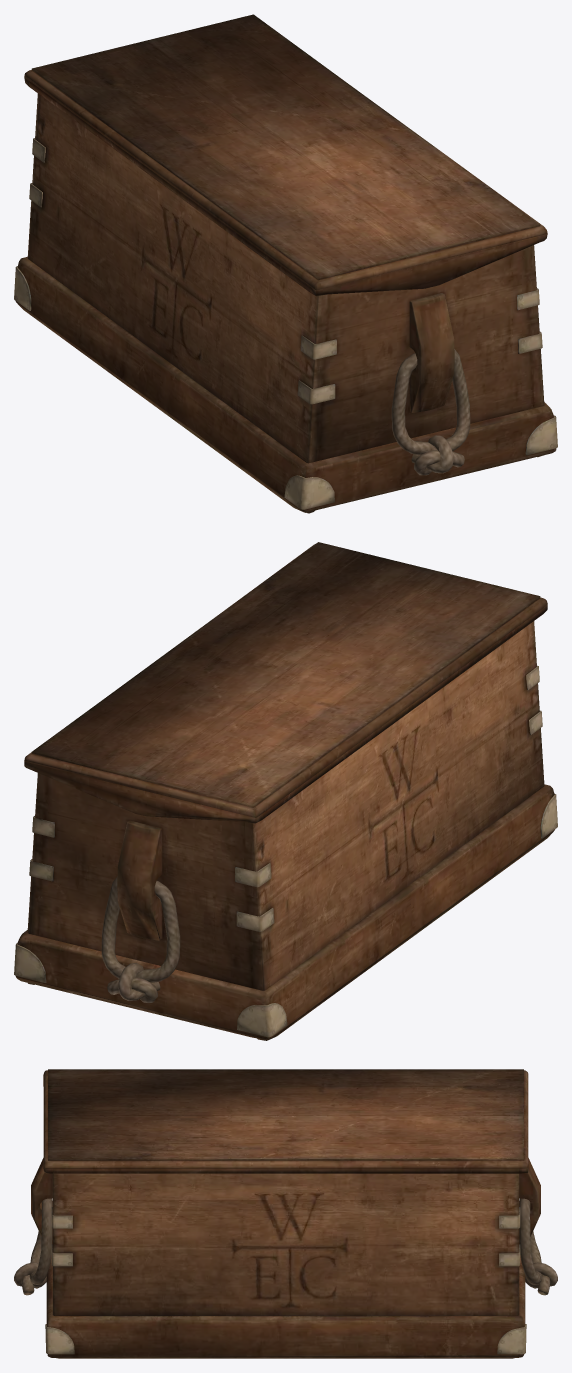
Rendered from assets__ph__wooden_crate_02.glb.
3 renders of one model, top to bottom at view 1: azimuth 30°, elevation 25°; view 2: azimuth 150°, elevation 25°; view 3: azimuth 270°, elevation 25°, orthographic. The views are drawn at different scales.
Parts seen in each view (by area): view 1: wooden_crate_02_crate; view 2: wooden_crate_02_crate; view 3: wooden_crate_02_crate.
Part boxes in pixels (x1,y1,x2,y2): wooden_crate_02_crate: [14, 14, 557, 513]; wooden_crate_02_crate: [14, 542, 557, 1040]; wooden_crate_02_crate: [14, 1069, 557, 1358].
Size of the model in its own units: 0.5291 by 0.4639 by 1.17.
1 material, 1 textured.
